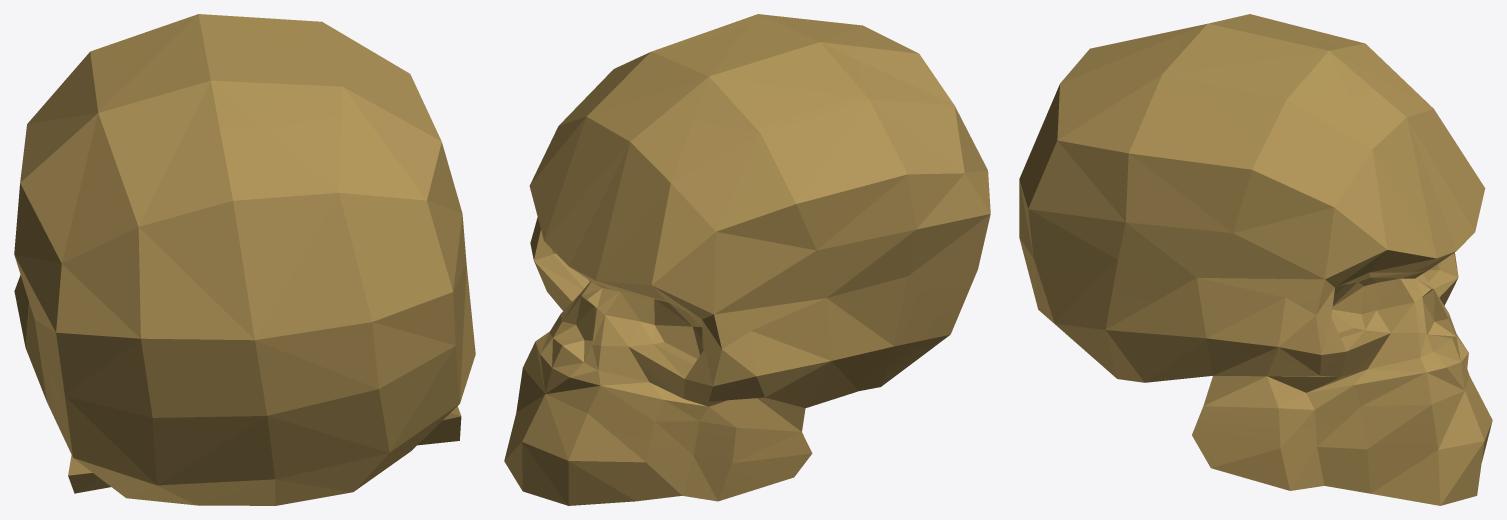
Rendered from trinketSkull2.fbx.
The picture shows the model from 3 angles, left to right: view 1: azimuth 30°, elevation 25°; view 2: azimuth 150°, elevation 25°; view 3: azimuth 270°, elevation 25°; orthographic projection. The views are drawn at different scales.
Parts seen in each view (by area): view 1: trinketSkull2; view 2: trinketSkull2; view 3: trinketSkull2.
Part boxes in pixels (x1,y1,x2,y2): trinketSkull2: (14, 14, 475, 505); trinketSkull2: (504, 14, 990, 505); trinketSkull2: (1019, 14, 1492, 505).
Size of the model in its own units: 1.26 by 1.23 by 1.34.
